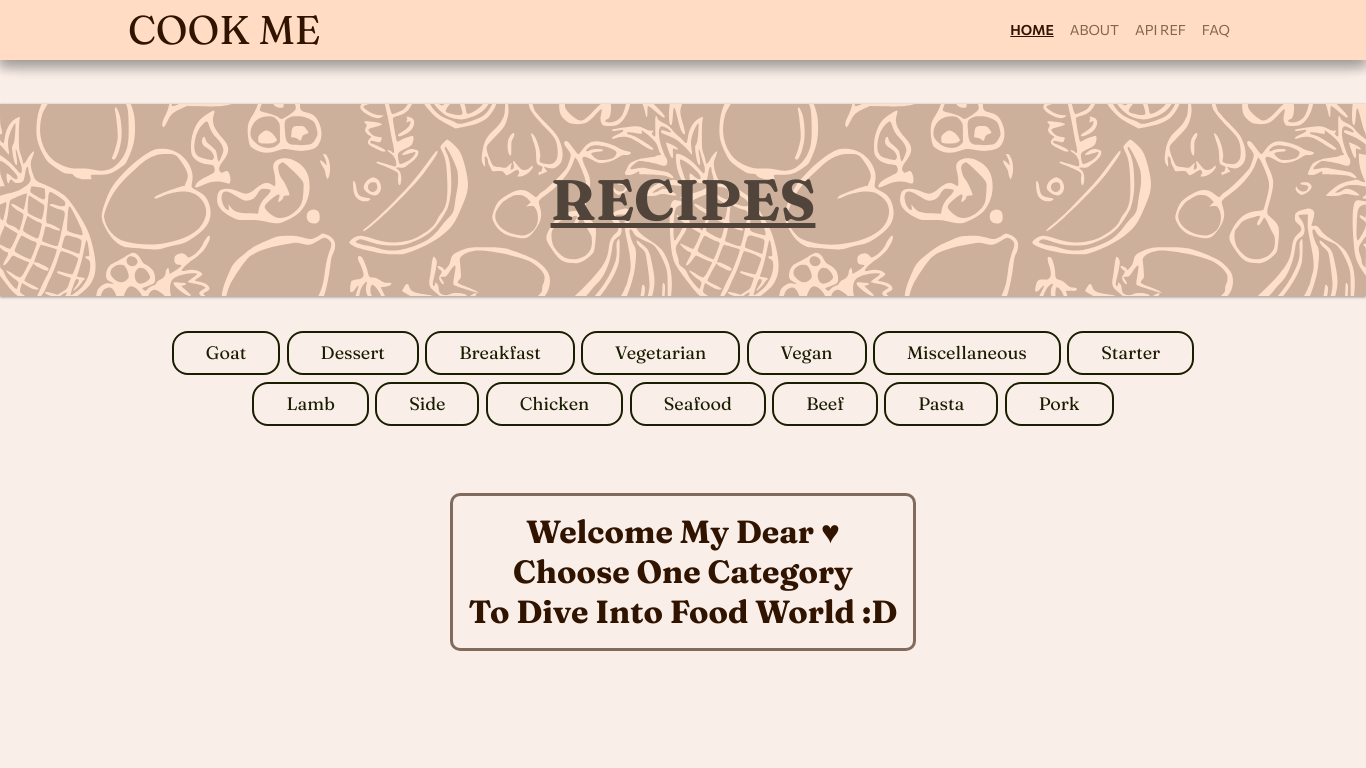
Test: Navigation › go to about page
Click the link to "/about": (1095, 30) [1062,20,1127,40]
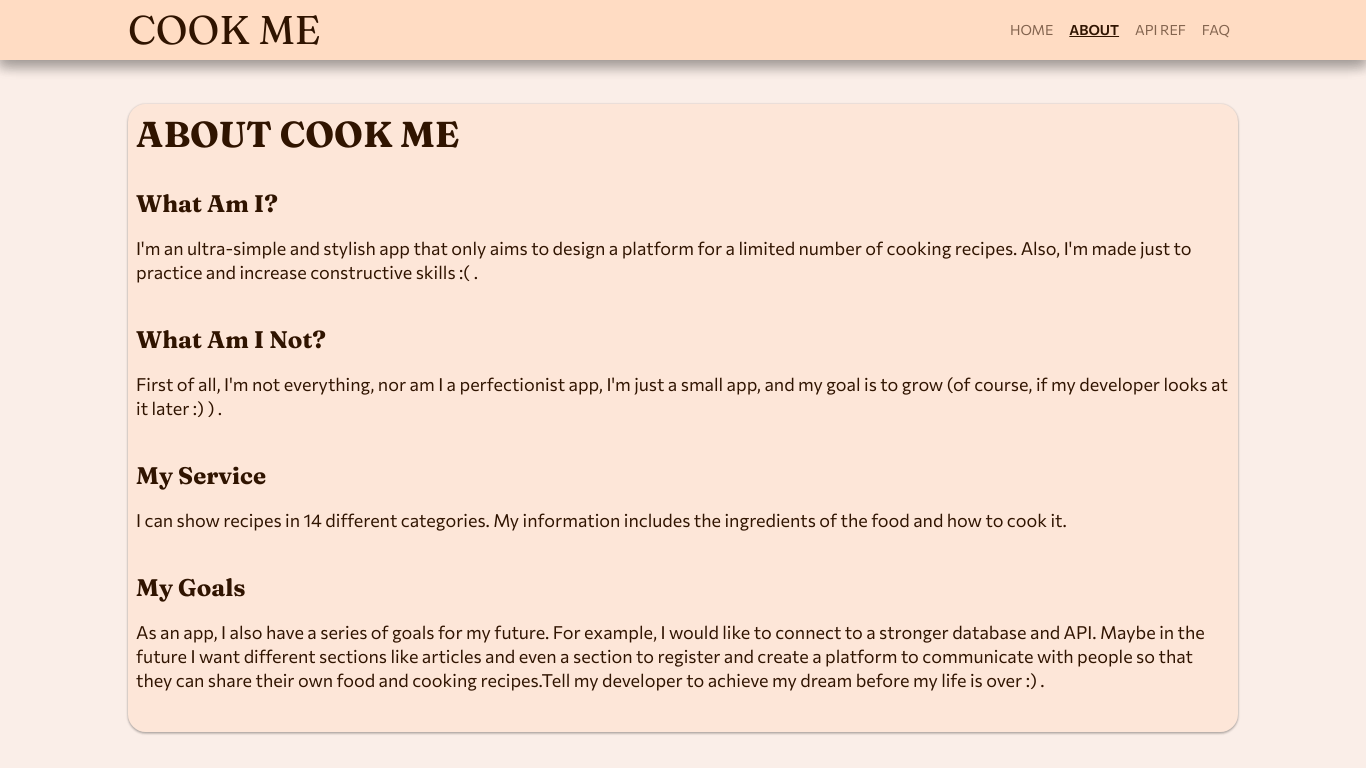
Result: the element with class "rare_data_con" is shown
Result: the text with class "rare_data_con" reads "ABOUT COOK ME" at [136,112,459,156]
